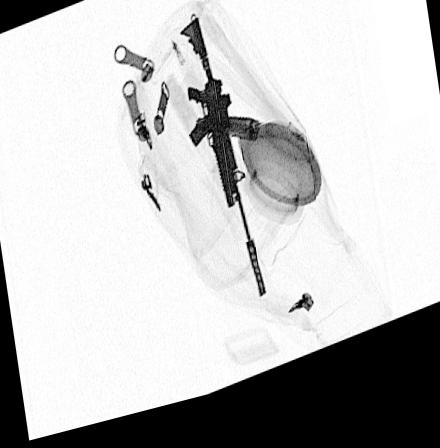Gun: (179, 26, 268, 311)
